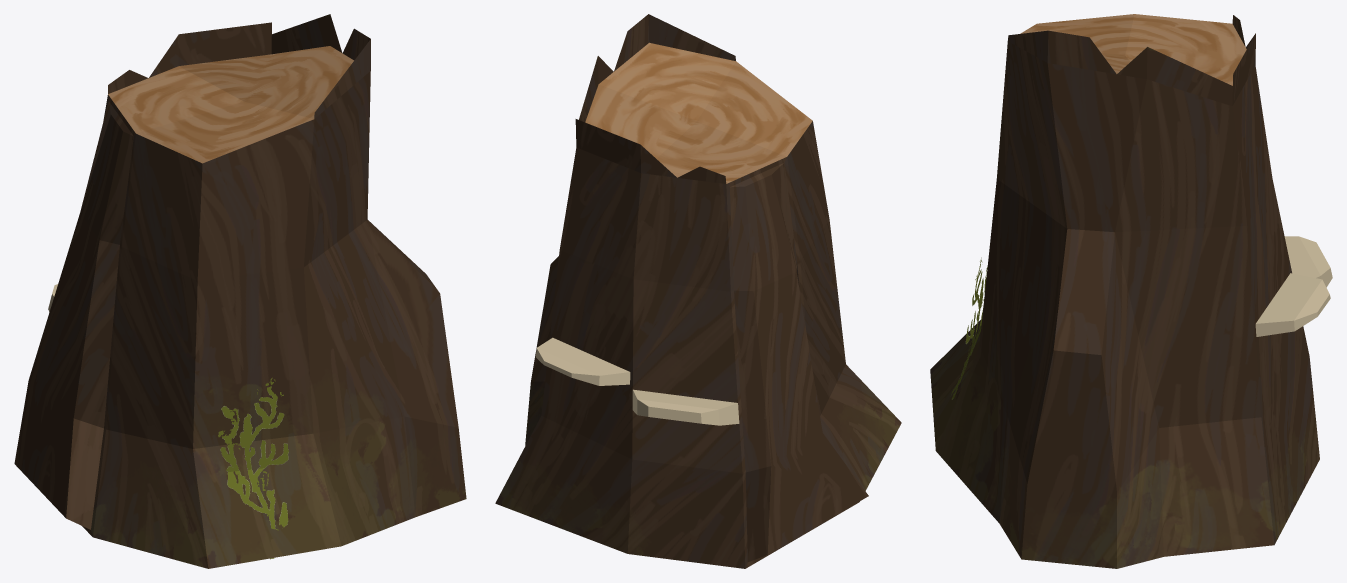
File: D_Tree_Stump.fbx
The picture shows the model from 3 angles, left to right: view 1: azimuth 30°, elevation 25°; view 2: azimuth 150°, elevation 25°; view 3: azimuth 270°, elevation 25°; orthographic projection. The views are drawn at different scales.
Visible parts, largest first — view 1: Cube; view 2: Cube; view 3: Cube.
Part boxes in pixels (left/top/right/bottom): Cube: left=14, top=14, right=466, bottom=568; Cube: left=495, top=14, right=901, bottom=568; Cube: left=930, top=14, right=1332, bottom=568.
Size of the model in its own units: 2.4 by 2.89 by 2.16.
